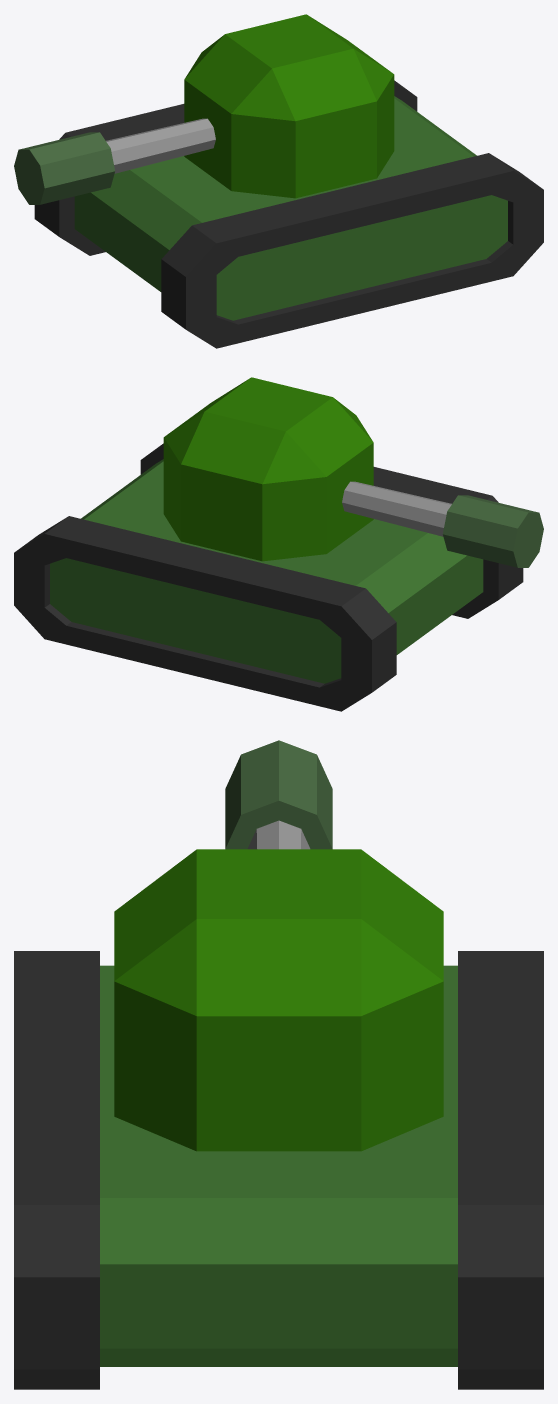
File: tank teki.fbx
3 views of the same model, one above another, from view 1: azimuth 30°, elevation 25°; view 2: azimuth 150°, elevation 25°; view 3: azimuth 270°, elevation 25° (orthographic). The views are drawn at different scales.
Parts seen in each view (by area): view 1: sita, ue; view 2: sita, ue; view 3: sita, ue.
Part boxes in pixels (box(x1,y1,x2,y2)): sita: box(34, 80, 543, 348); ue: box(14, 14, 394, 204); sita: box(14, 443, 523, 711); ue: box(163, 377, 543, 567); sita: box(14, 951, 543, 1389); ue: box(114, 740, 443, 1151).
Bounding box in the file's own units: 216 × 101 × 129.
